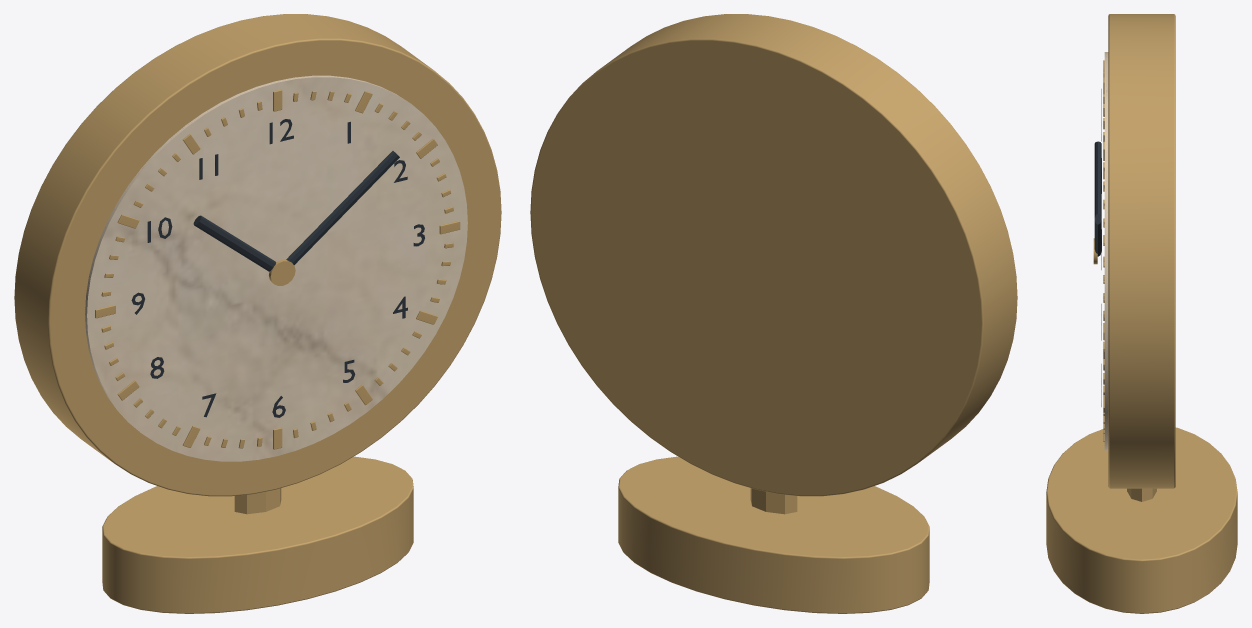
Rendered from clock-marble-brass.glb.
The picture shows the model from 3 angles, left to right: view 1: azimuth 30°, elevation 25°; view 2: azimuth 150°, elevation 25°; view 3: azimuth 270°, elevation 25°; orthographic projection. The views are drawn at different scales.
Visible parts, largest first — view 1: catalog_surface_RealismUV; view 2: catalog_surface_RealismUV; view 3: catalog_surface_RealismUV.
Part boxes in pixels (x1,y1,x2,y2): catalog_surface_RealismUV: [14, 14, 501, 613]; catalog_surface_RealismUV: [530, 14, 1017, 613]; catalog_surface_RealismUV: [1046, 14, 1237, 613].
Bounding box in the file's own units: 0.17 × 0.19 × 0.065.
Materials: 3 (1 with a texture image).
